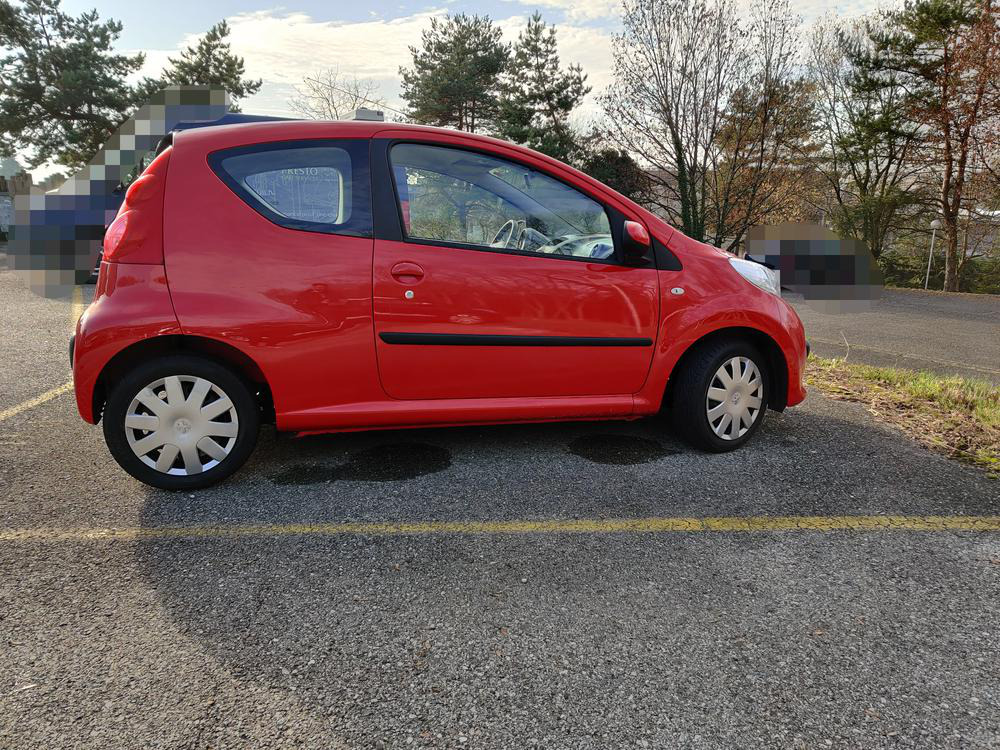mobil: (60, 108, 818, 496)
